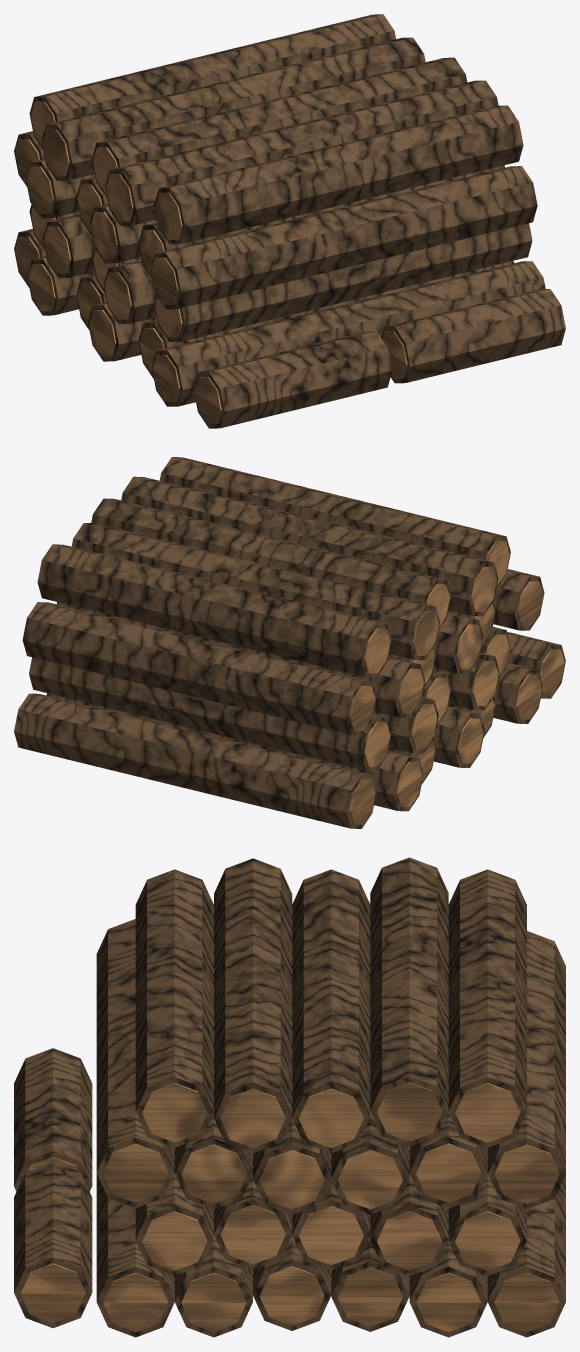
File: woodstack.fbx
3 views of the same model, one above another, from view 1: azimuth 30°, elevation 25°; view 2: azimuth 150°, elevation 25°; view 3: azimuth 270°, elevation 25° (orthographic). The views are drawn at different scales.
Parts seen in each view (by area): view 1: woodstack; view 2: woodstack; view 3: woodstack.
Boxes of the visible parts, bbox=[...] form: woodstack: bbox=[14, 14, 565, 428]; woodstack: bbox=[14, 457, 565, 828]; woodstack: bbox=[14, 857, 565, 1337].
Size of the model in its own units: 123 by 64.77 by 127.
